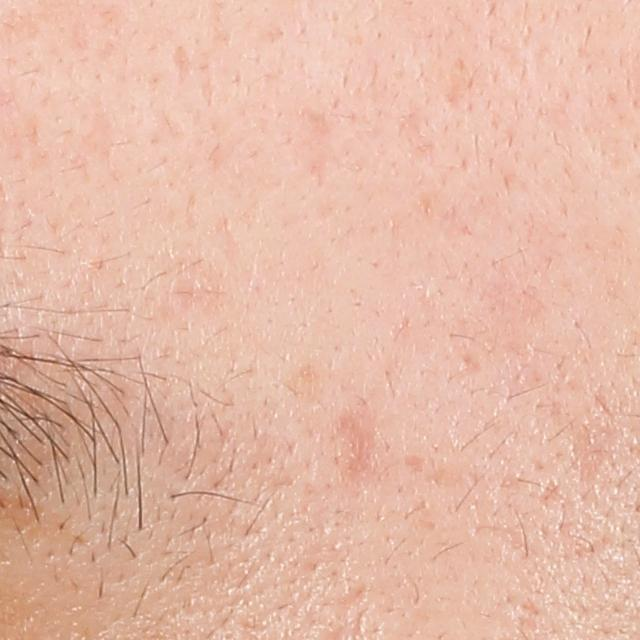atrophic_scar: (332, 409, 379, 489), (169, 39, 197, 88), (535, 470, 566, 512), (451, 349, 481, 380), (399, 453, 427, 472)
